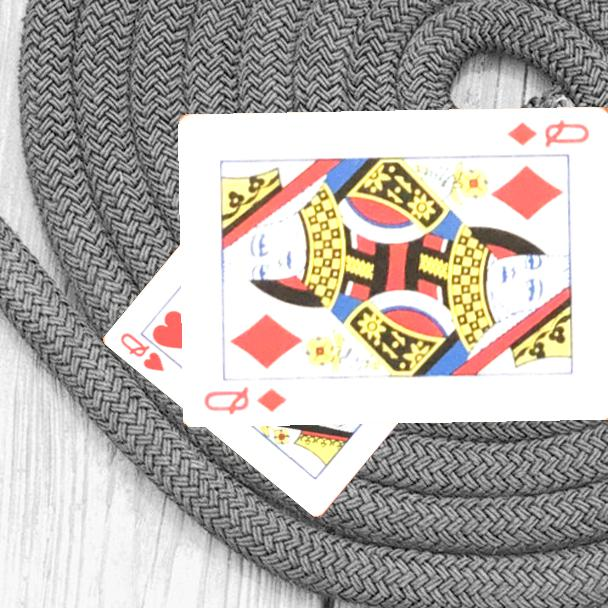d12: (201, 383, 290, 417), (504, 116, 592, 150)
h12: (117, 329, 168, 375)
